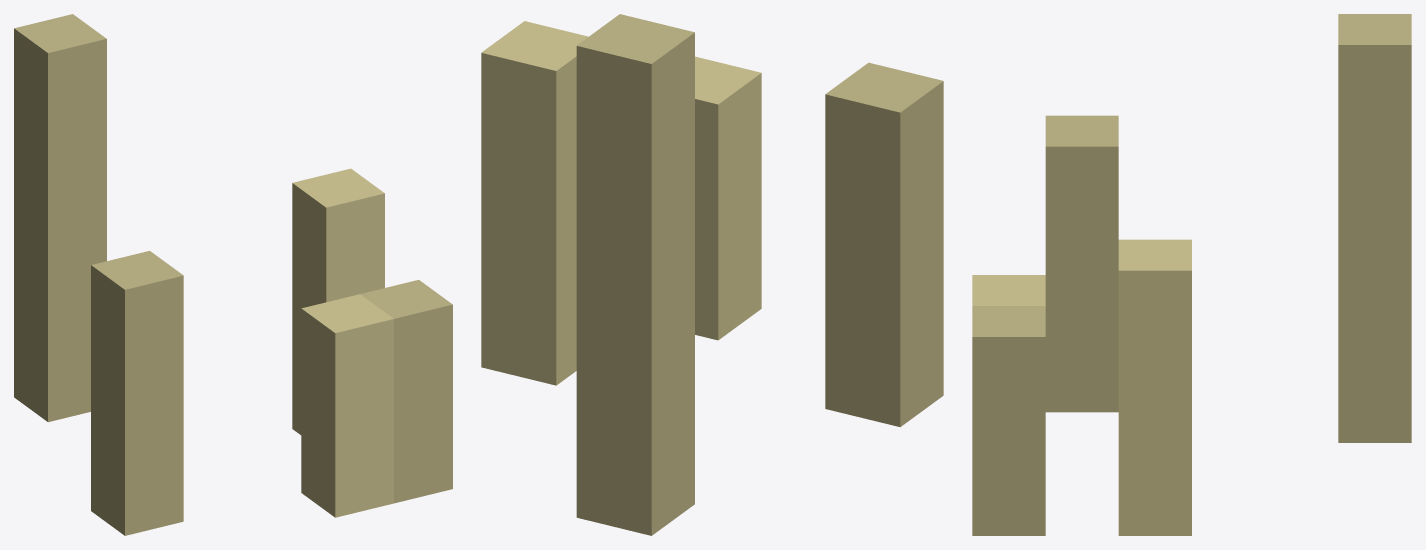
File: esparto_03.glb
The picture shows the model from 3 angles, left to right: view 1: azimuth 30°, elevation 25°; view 2: azimuth 150°, elevation 25°; view 3: azimuth 270°, elevation 25°; orthographic projection. The views are drawn at different scales.
Visible parts, largest first — view 1: esparto_03; view 2: esparto_03; view 3: esparto_03.
Boxes of the visible parts, x1=… form: esparto_03: x1=14, y1=14, x2=452, y2=535; esparto_03: x1=481, y1=14, x2=943, y2=535; esparto_03: x1=972, y1=14, x2=1411, y2=535.
Bounding box in the file's own units: 0.5 × 0.6 × 0.6.
